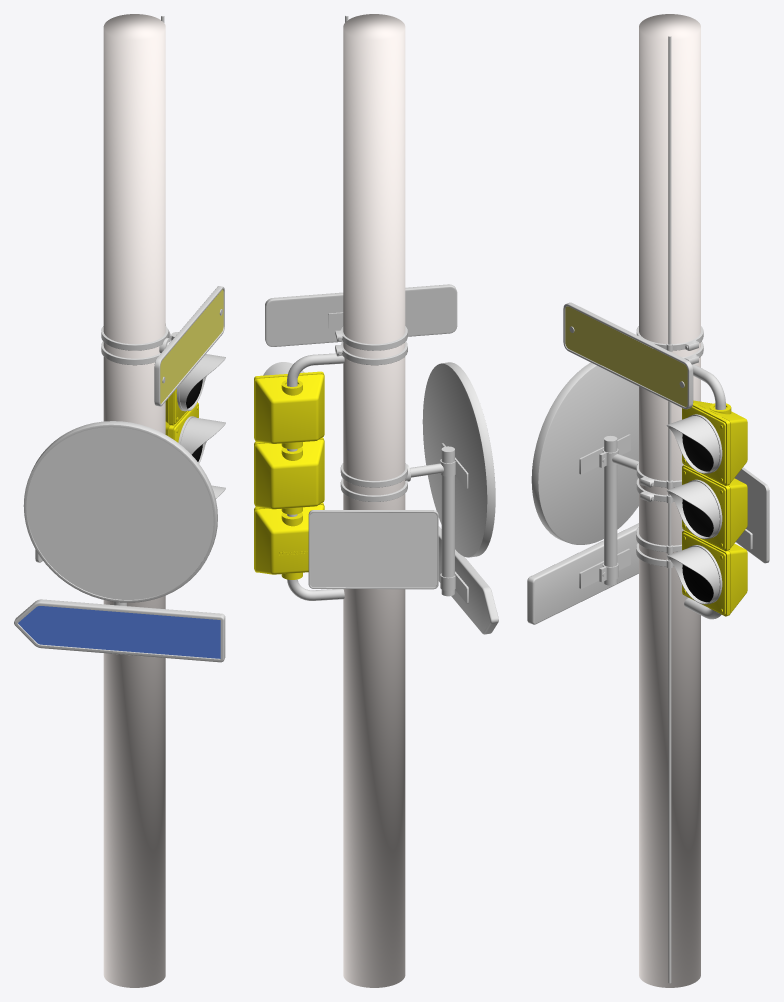
The picture shows the model from 3 angles, left to right: view 1: azimuth 30°, elevation 25°; view 2: azimuth 150°, elevation 25°; view 3: azimuth 270°, elevation 25°; orthographic projection.
Visible parts, largest first — view 1: signal_pole, Cylinder.001, Cube.003, Cube, Cube.010, Cylinder.032; view 2: signal_pole, Cube.010, Cube.004, Cylinder.001, Cube, Cube.003, Cylinder.004, Cube.001, Cylinder.032, Cylinder.008; view 3: signal_pole, Cylinder.001, Cube.010, Cube, Cube.003, BézierCurve, Cube.004, Cylinder.004, Cube.001, Cylinder.008, Cube.008, Cube.002 (+2 smaller).
Part boxes in pixels (<box>): signal_pole: <box>103,14,165,987</box>; Cylinder.001: <box>23,421,217,602</box>; Cube.003: <box>14,599,225,662</box>; Cube: <box>154,286,224,406</box>; Cube.010: <box>165,354,225,498</box>; Cylinder.032: <box>101,326,168,365</box>; signal_pole: <box>343,14,405,987</box>; Cube.010: <box>254,362,324,579</box>; Cube.004: <box>308,510,438,589</box>; Cylinder.001: <box>422,362,495,557</box>; Cube: <box>265,284,457,346</box>; Cube.003: <box>438,526,498,634</box>; Cylinder.004: <box>441,446,454,596</box>; Cube.001: <box>287,353,344,600</box>; Cylinder.032: <box>335,326,407,365</box>; Cylinder.008: <box>340,463,407,501</box>; signal_pole: <box>639,14,700,987</box>; Cylinder.001: <box>531,362,638,544</box>; Cube.010: <box>666,400,747,616</box>; Cube: <box>563,302,693,409</box>; Cube.003: <box>527,523,638,624</box>; BézierCurve: <box>668,36,671,983</box>; Cube.004: <box>734,467,769,563</box>; Cylinder.004: <box>604,436,617,585</box>; Cube.001: <box>684,364,725,619</box>; Cylinder.008: <box>636,463,681,502</box>; Cube.008: <box>579,548,630,588</box>; Cube.002: <box>579,434,630,474</box>.
Bounding box in the file's own units: 0.3966 × 1.62 × 0.3744.
